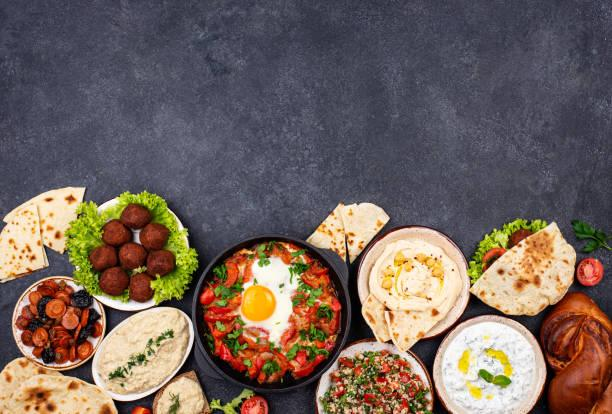Braised Crucian Carp: (192, 235, 347, 391), (355, 225, 470, 343), (78, 195, 189, 309), (432, 313, 549, 412), (466, 216, 576, 313), (92, 305, 193, 401), (315, 337, 436, 412), (10, 276, 103, 370)
